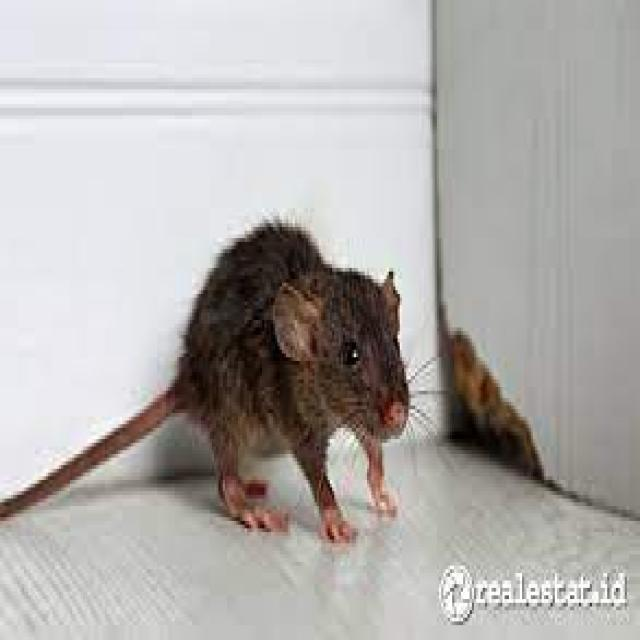rat: (178, 209, 432, 558)
